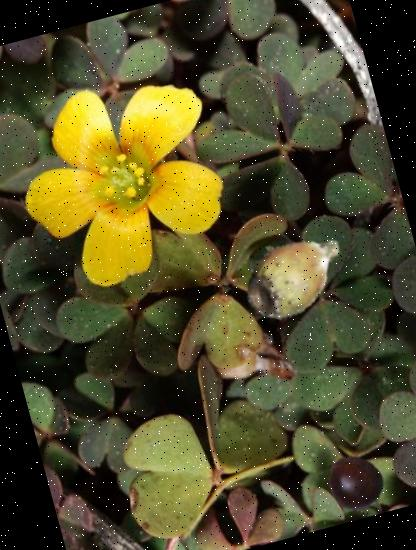Cactus: (227, 205, 363, 341)
Chestnut: (319, 448, 389, 518)
